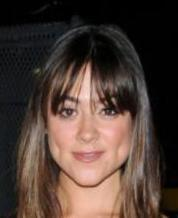face: (54, 95, 124, 164)
